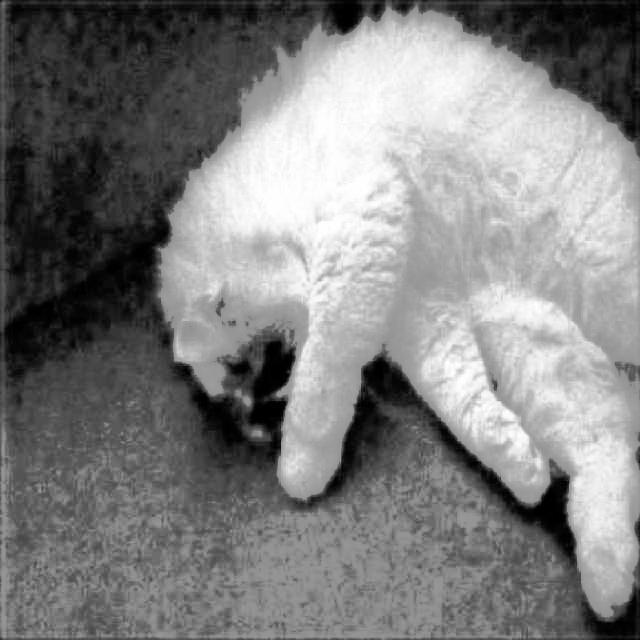Cat: (141, 0, 640, 626)
